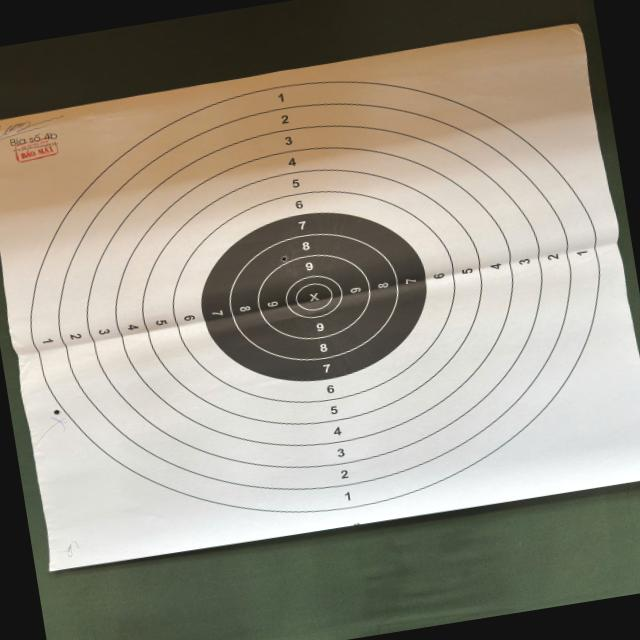bullet: (281, 255, 288, 263), (54, 410, 59, 414)
target: (0, 27, 640, 570)
